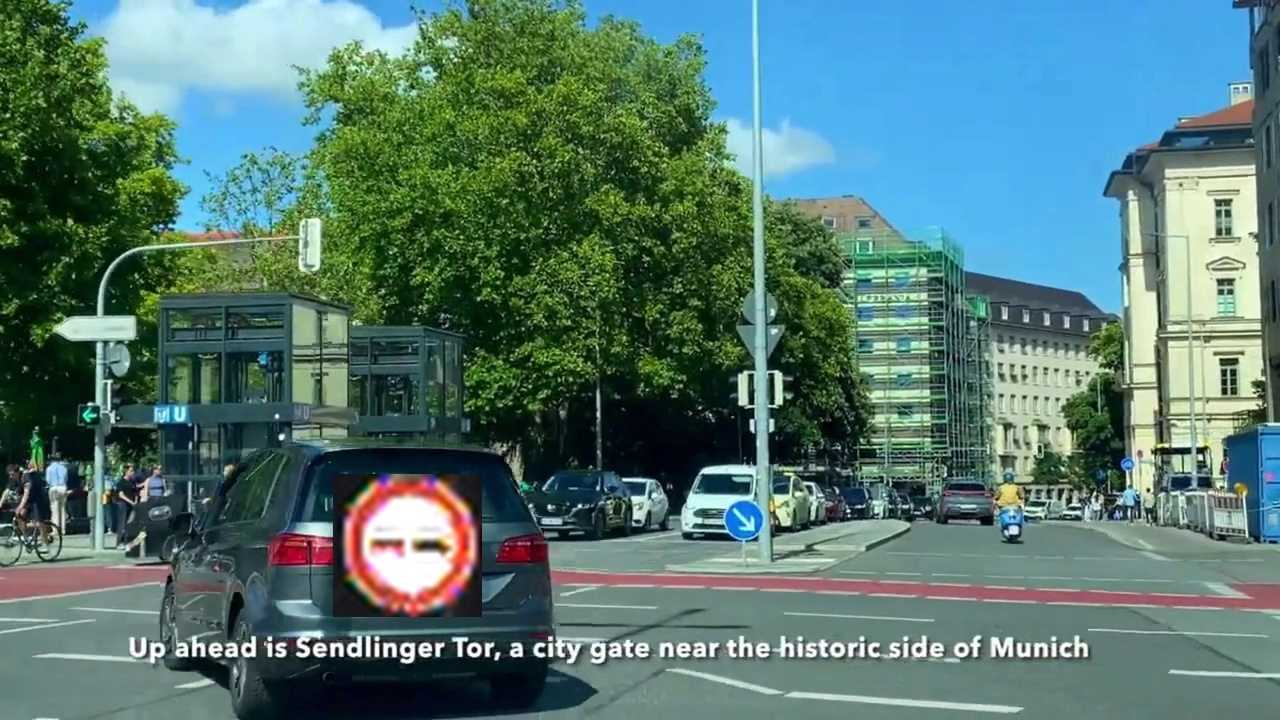No passing: (333, 474, 482, 617)
